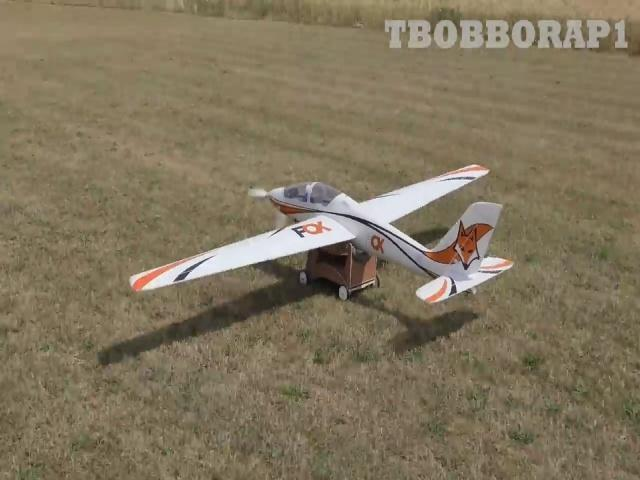Airplane: (129, 164, 514, 307)
